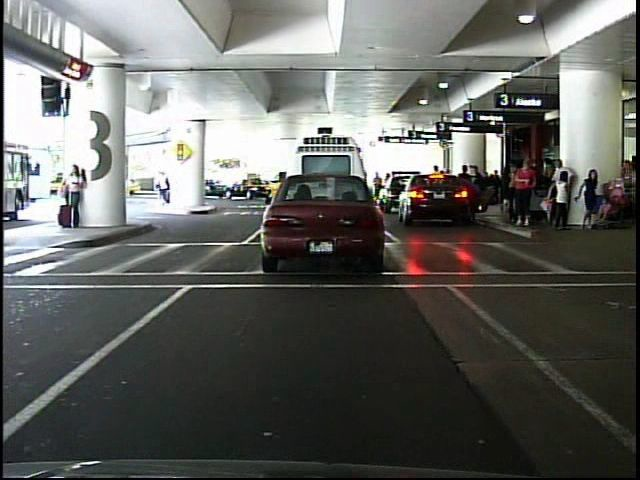person: (515, 156, 539, 230), (66, 160, 90, 230), (149, 163, 176, 206)
